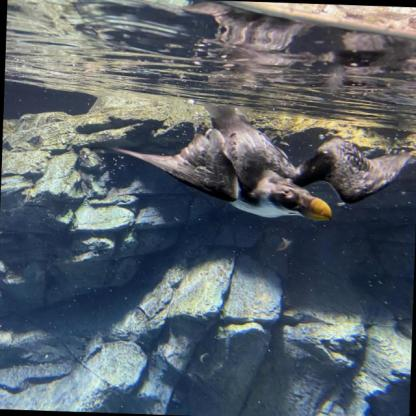puffin: (112, 98, 415, 225)
